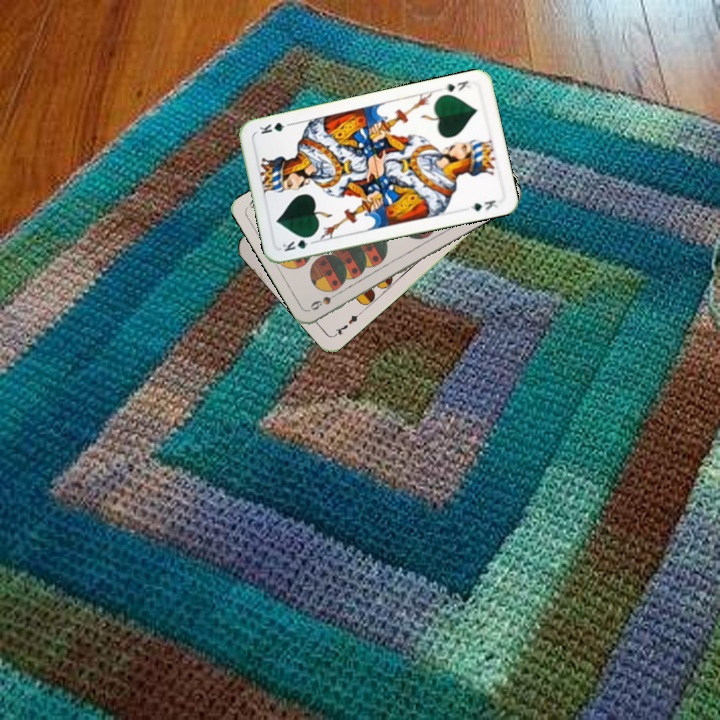E7: (330, 308, 364, 339)
GK: (278, 232, 316, 254), (440, 77, 472, 94)
S9: (306, 287, 343, 313)
